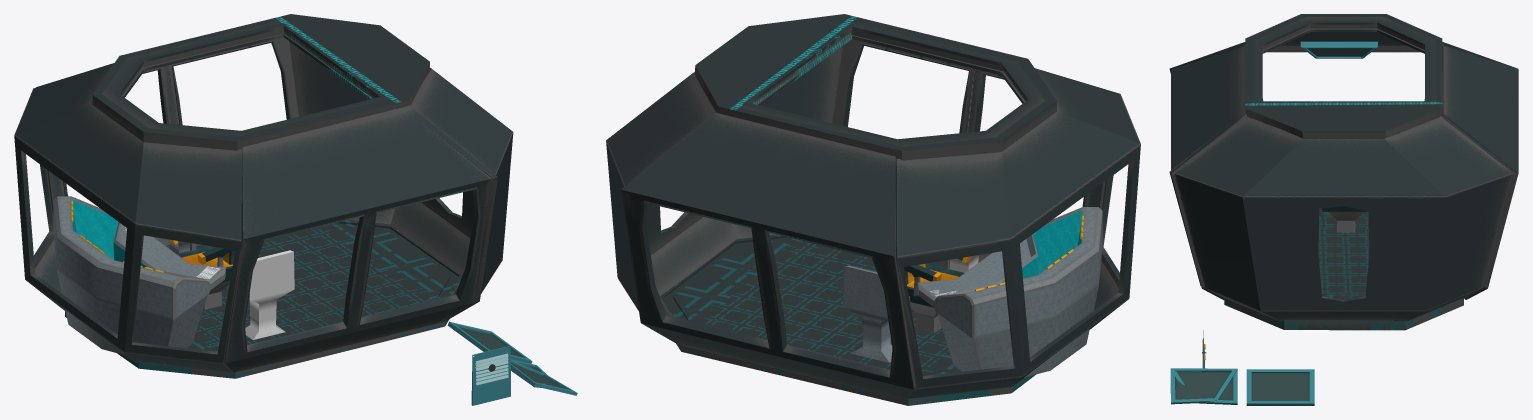
File: MSPZ_MESH.fbx
The picture shows the model from 3 angles, left to right: view 1: azimuth 30°, elevation 25°; view 2: azimuth 150°, elevation 25°; view 3: azimuth 270°, elevation 25°; orthographic projection. The views are drawn at different scales.
Visible parts, largest first — view 1: Cage, Console, Left_Console, Chair, Power_Panel, Console_Door_Middle, EXP_6__Hatch_139, Console_Door_Right_166; view 2: Cage, Console, Right_Console, Chair; view 3: Cage, Console_Door_Middle, Console_Door_Right_166, TopScreen, Chair, Console_Door_Right.
Boxes of the visible parts, left/top/right/bottom form: Cage: left=14, top=14, right=513, bottom=378; Console: left=53, top=196, right=225, bottom=365; Left_Console: left=245, top=250, right=294, bottom=339; Chair: left=170, top=239, right=235, bottom=309; Power_Panel: left=472, top=345, right=510, bottom=388; Console_Door_Middle: left=447, top=321, right=532, bottom=363; EXP_6__Hatch_139: left=471, top=362, right=510, bottom=405; Console_Door_Right_166: left=510, top=360, right=577, bottom=395; Cage: left=606, top=14, right=1140, bottom=405; Console: left=917, top=207, right=1102, bottom=377; Right_Console: left=843, top=265, right=910, bottom=362; Chair: left=904, top=256, right=971, bottom=332; Cage: left=1169, top=14, right=1518, bottom=330; Console_Door_Middle: left=1246, top=369, right=1314, bottom=405; Console_Door_Right_166: left=1170, top=368, right=1237, bottom=404; TopScreen: left=1300, top=41, right=1377, bottom=58; Chair: left=1322, top=206, right=1367, bottom=232; Console_Door_Right: left=1175, top=370, right=1237, bottom=404.
Bounding box in the file's own units: 507 × 457 × 359.
